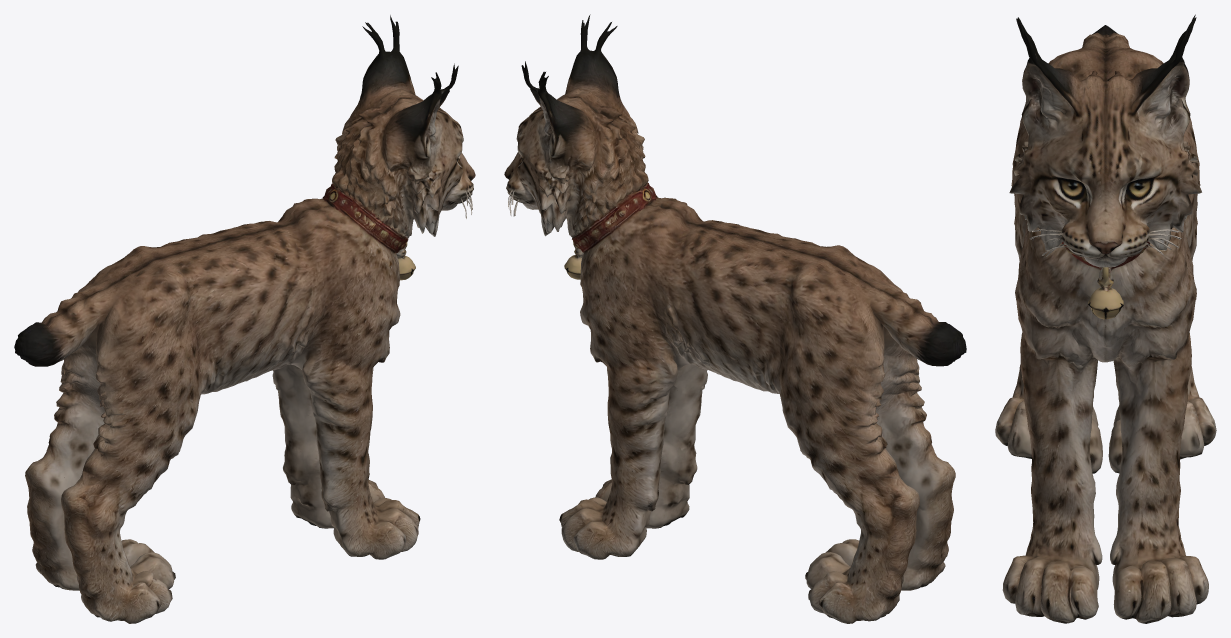
File: lynx-tripo.glb
3 renders of one model, left to right at view 1: azimuth 30°, elevation 25°; view 2: azimuth 150°, elevation 25°; view 3: azimuth 270°, elevation 25°, orthographic. The views are drawn at different scales.
Visible parts, largest first — view 1: tripo_node_8b9c9fb8-be80-4b6a-82d4-a3618d5edab9; view 2: tripo_node_8b9c9fb8-be80-4b6a-82d4-a3618d5edab9; view 3: tripo_node_8b9c9fb8-be80-4b6a-82d4-a3618d5edab9.
Boxes of the visible parts, x1=… form: tripo_node_8b9c9fb8-be80-4b6a-82d4-a3618d5edab9: x1=14, y1=15, x2=475, y2=623; tripo_node_8b9c9fb8-be80-4b6a-82d4-a3618d5edab9: x1=504, y1=14, x2=966, y2=623; tripo_node_8b9c9fb8-be80-4b6a-82d4-a3618d5edab9: x1=995, y1=14, x2=1216, y2=623.
Size of the model in its own units: 0.9954 by 1 by 0.3208.
Materials: 1 (1 with a texture image).
